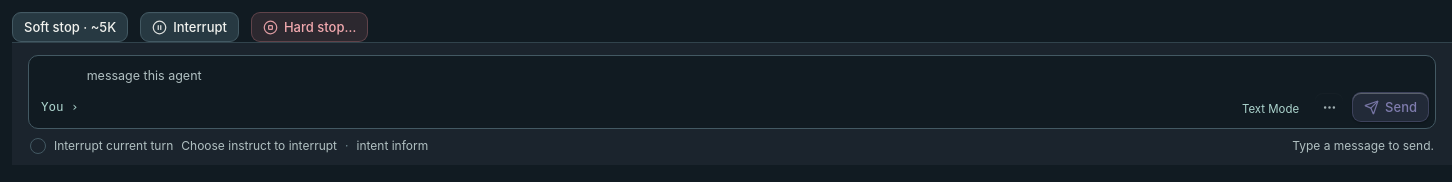
Test case: Agent controls › only allows the interrupt checkbox for instruct with a turn in progress
Expected: the checkbox labelled "Interrupt current turn" is disabled, [30, 137, 173, 155]
Note: Intent sits behind the ⋯ menu and defaults to inform.
Click the button named "Message options (intent: inform)": (1329, 107) [1314, 92, 1344, 122]
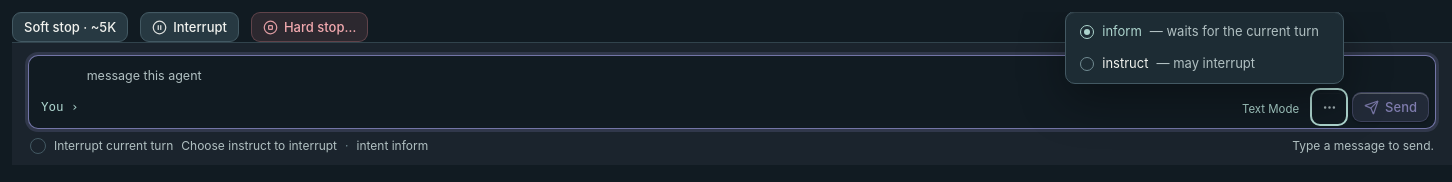
Click the radio button labelled "instruct — may interrupt": (1168, 63) [1080, 55, 1255, 71]
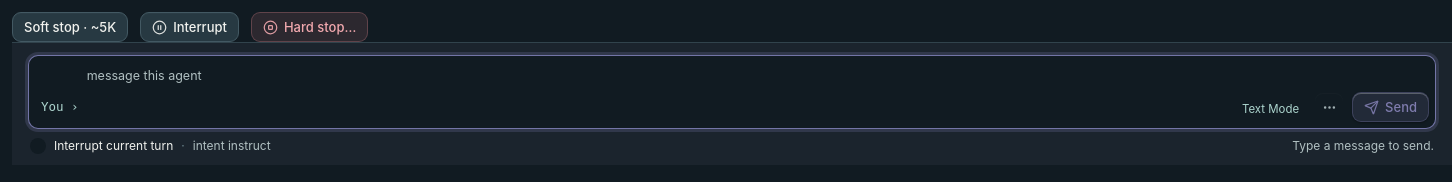
Expected: the checkbox labelled "Interrupt current turn" is enabled, [30, 137, 173, 155]
Expected: the button named "Message options (intent: instruct)" is shown, [1314, 92, 1344, 122]
